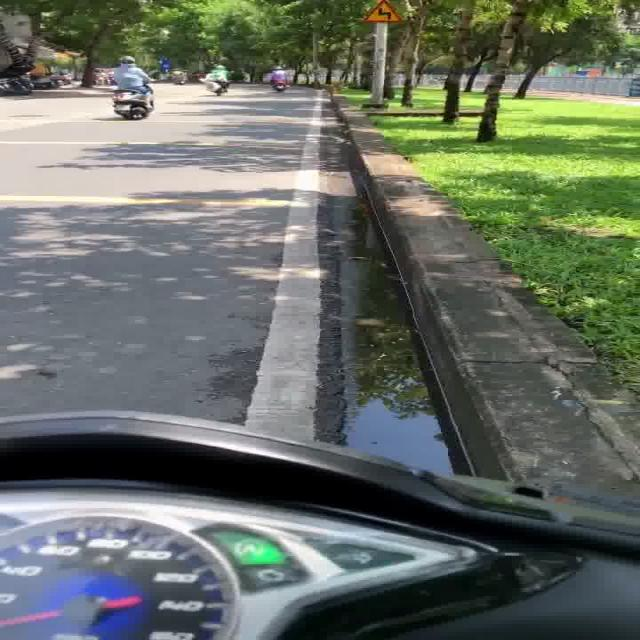Bien bao nhieu cho ngoat nguy hiem lien tiep: (351, 0, 417, 26)
